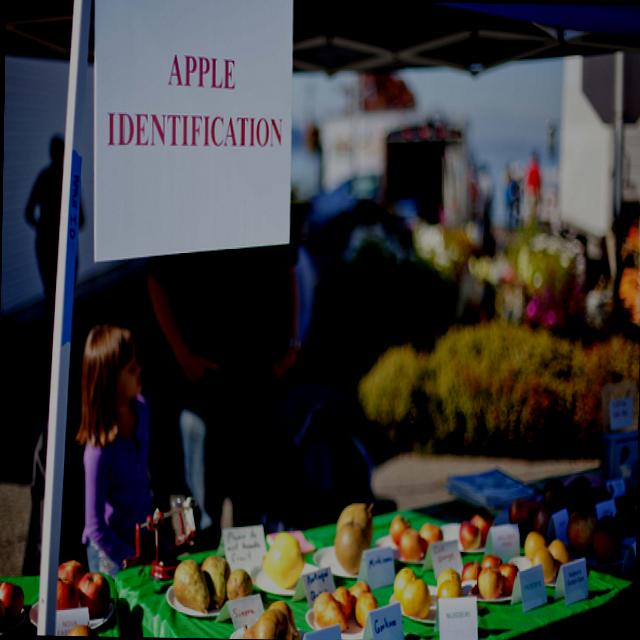Vehicle: (318, 106, 464, 238)
